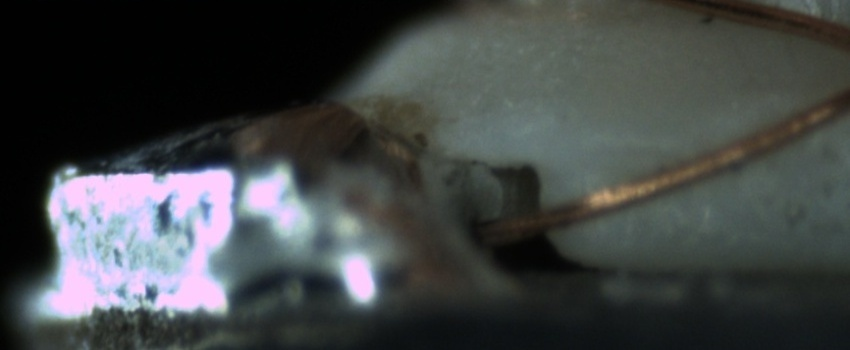DL: (584, 123, 709, 177)
